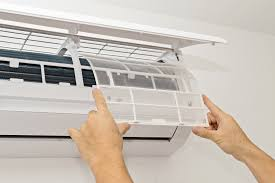ac: (1, 9, 225, 162)
